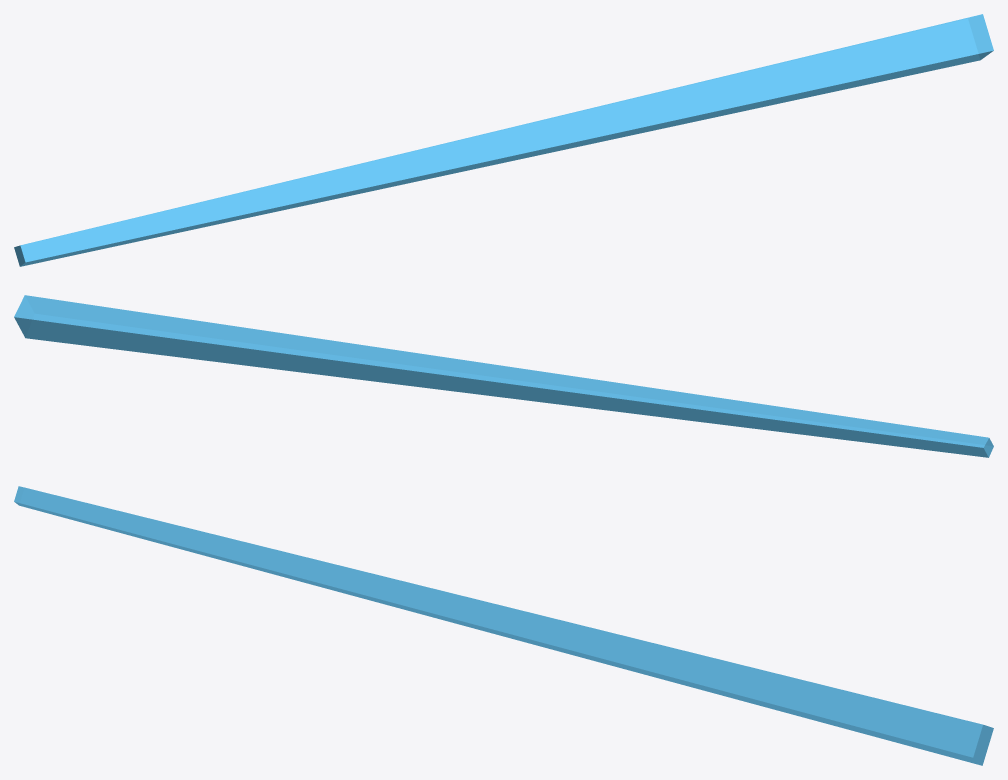
Rendered from Event_421556567_HErechit_42.fbx.
3 views of the same model, one above another, from view 1: azimuth 30°, elevation 25°; view 2: azimuth 150°, elevation 25°; view 3: azimuth 330°, elevation 25° (orthographic). The views are drawn at different scales.
Visible parts, largest first — view 1: Model; view 2: Model; view 3: Model.
Boxes of the visible parts, <box> form: Model: <box>14,14,993,266</box>; Model: <box>14,295,993,457</box>; Model: <box>14,486,993,765</box>.
Bounding box in the file's own units: 11.49 × 1.08 × 1.36.
